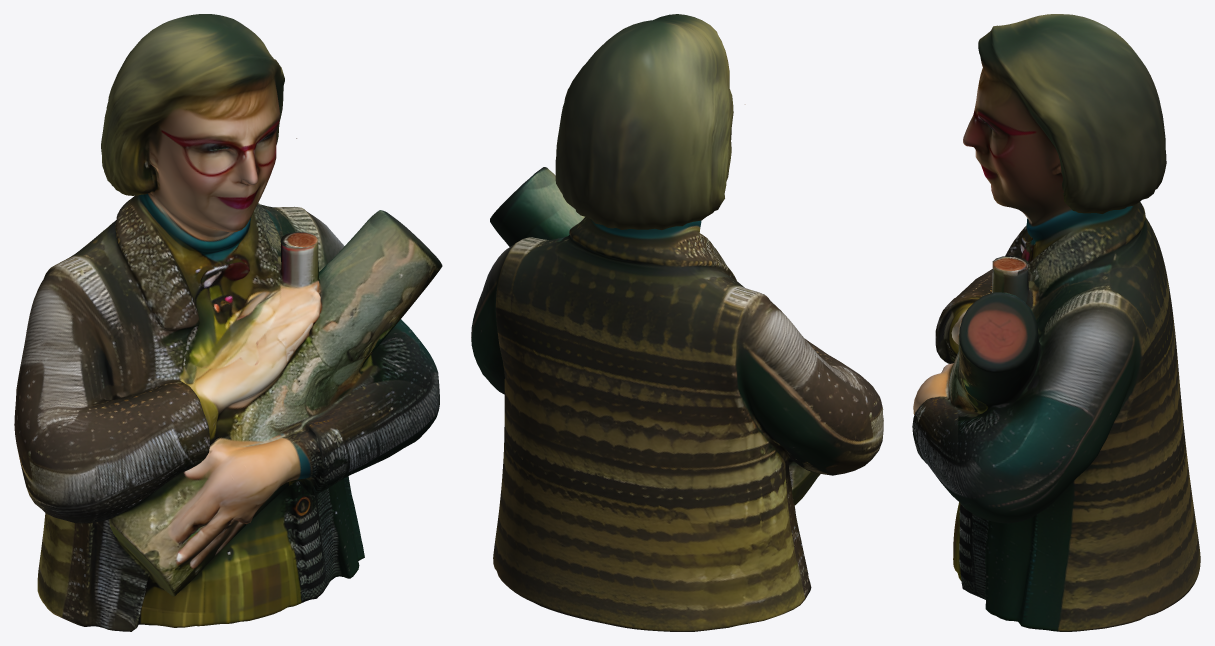
The model's file is log_lady.glb.
3 renders of one model, left to right at view 1: azimuth 30°, elevation 25°; view 2: azimuth 150°, elevation 25°; view 3: azimuth 270°, elevation 25°, orthographic. The views are drawn at different scales.
Visible parts, largest first — view 1: Object_2; view 2: Object_2; view 3: Object_2.
Part boxes in pixels (x1,y1,x2,y2): Object_2: (14, 14, 442, 631); Object_2: (471, 14, 883, 631); Object_2: (912, 14, 1200, 631).
Bounding box in the file's own units: 1.42 × 1.9 × 0.9196.
Materials: 1 (1 with a texture image).
